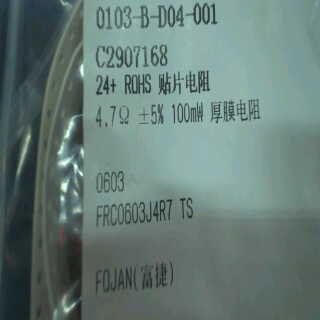4.7R: (89, 102, 133, 134)
